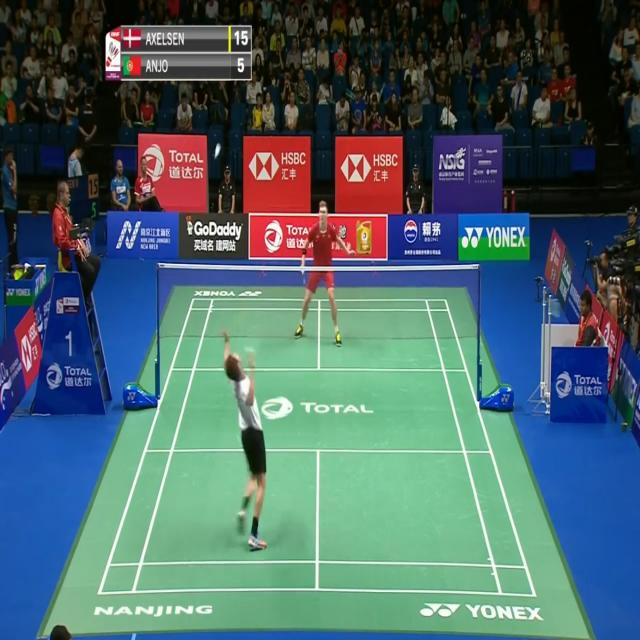Player1: (219, 320, 279, 564)
Player2: (291, 193, 354, 357)
